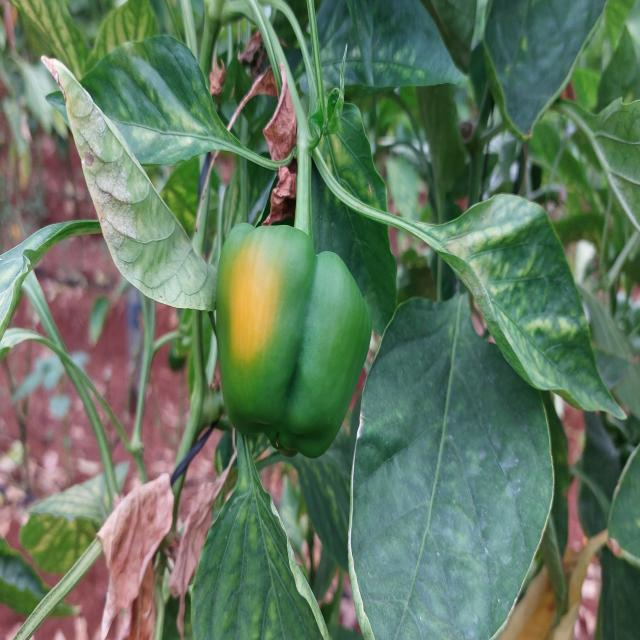GreenishYellow--Can-be-Harvested: (205, 189, 379, 455)
